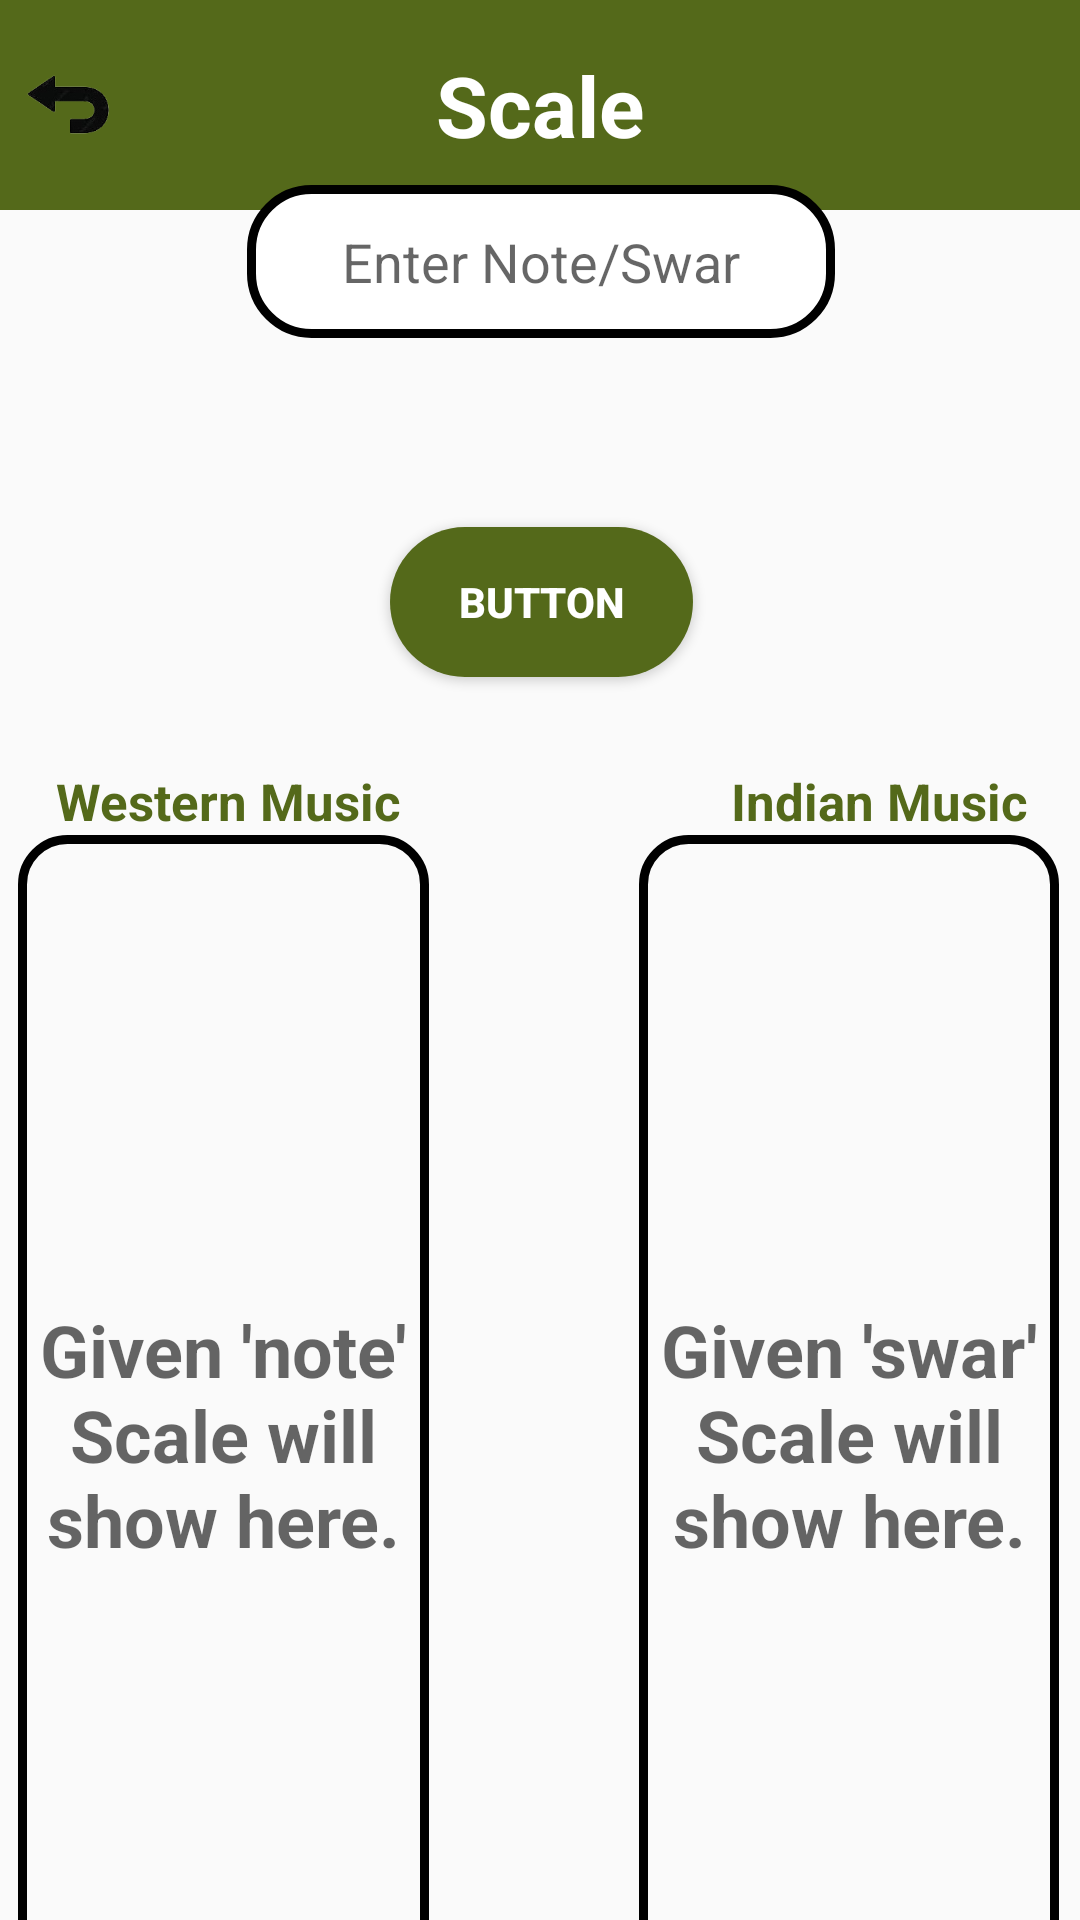

Screen size 1080px x 1920px. Icon name, then its box in pixels as (x1, y1, x2, y2):
back: (28, 76, 109, 134)
